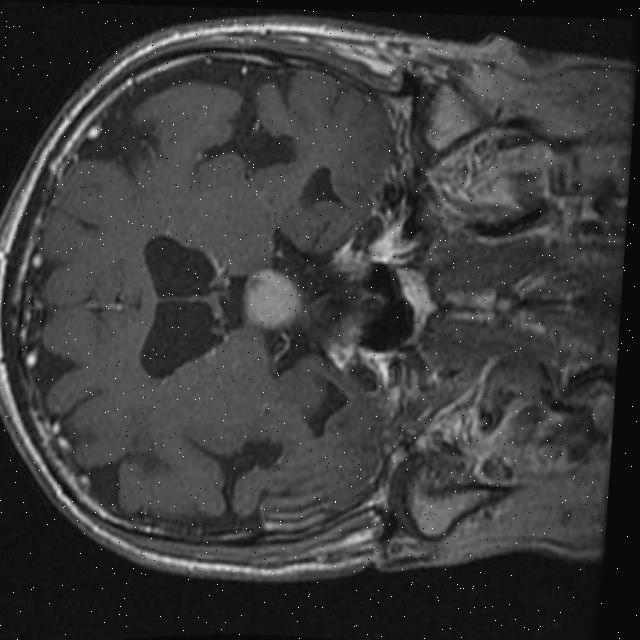Pituitary: (240, 267, 305, 331)
